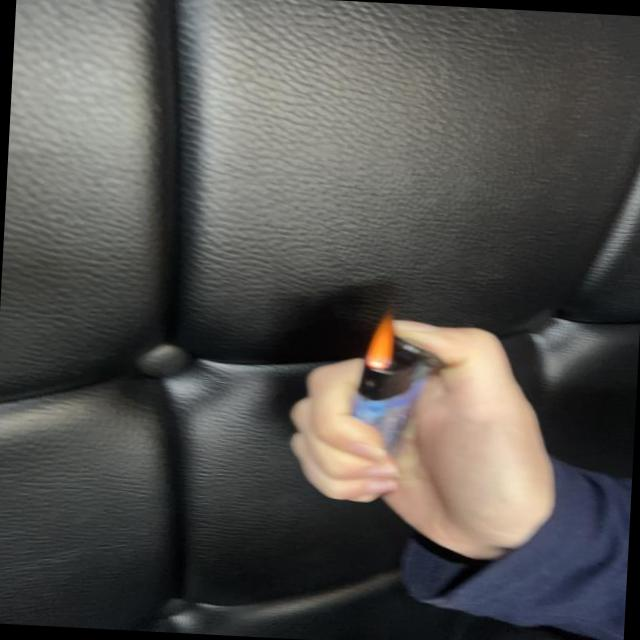Fire: (359, 311, 398, 370)
